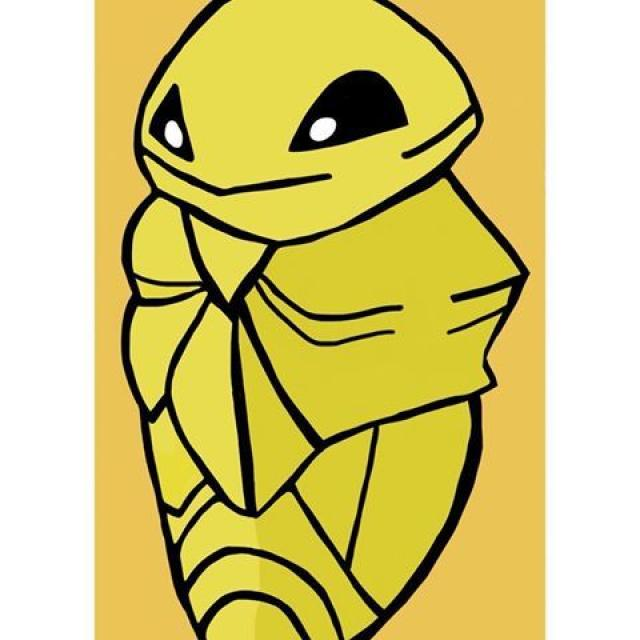Kakuna: (94, 6, 535, 640)
